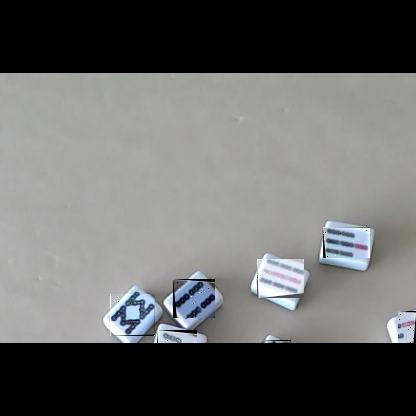3s: (157, 330, 197, 343)
4s: (173, 279, 215, 318)
7s: (323, 227, 370, 258), (398, 311, 416, 343), (260, 340, 291, 343)
8s: (110, 294, 155, 336)
9s: (257, 259, 304, 298)
